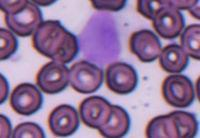L: (79, 10, 122, 64)
